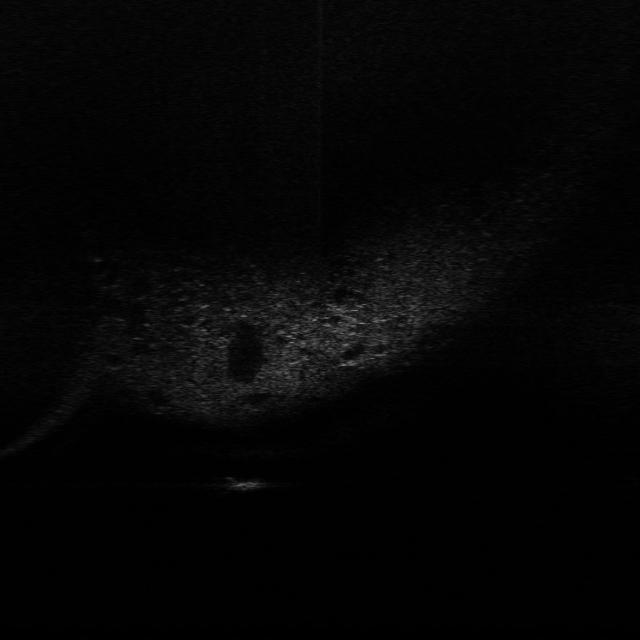cube: (217, 473, 272, 493)
